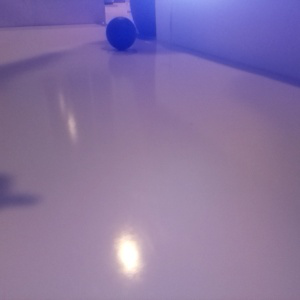alive_ball: (105, 17, 136, 51)
